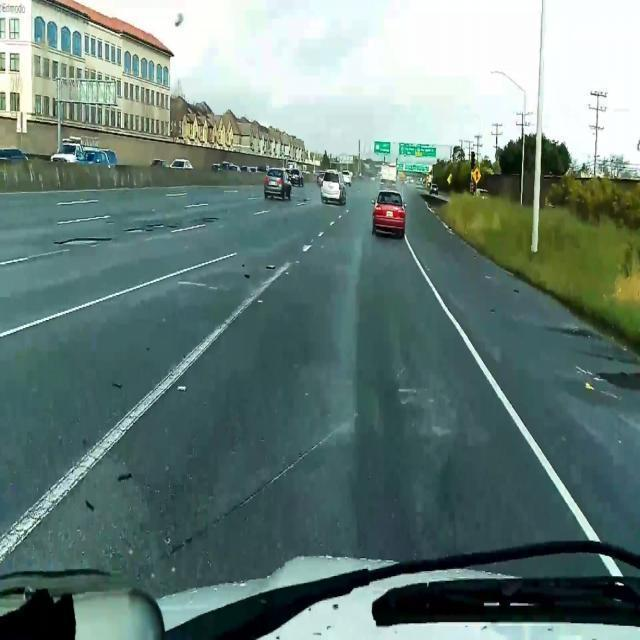pothole: (54, 237, 112, 246), (145, 222, 165, 229), (125, 229, 145, 233), (205, 217, 220, 221), (303, 199, 311, 202)
